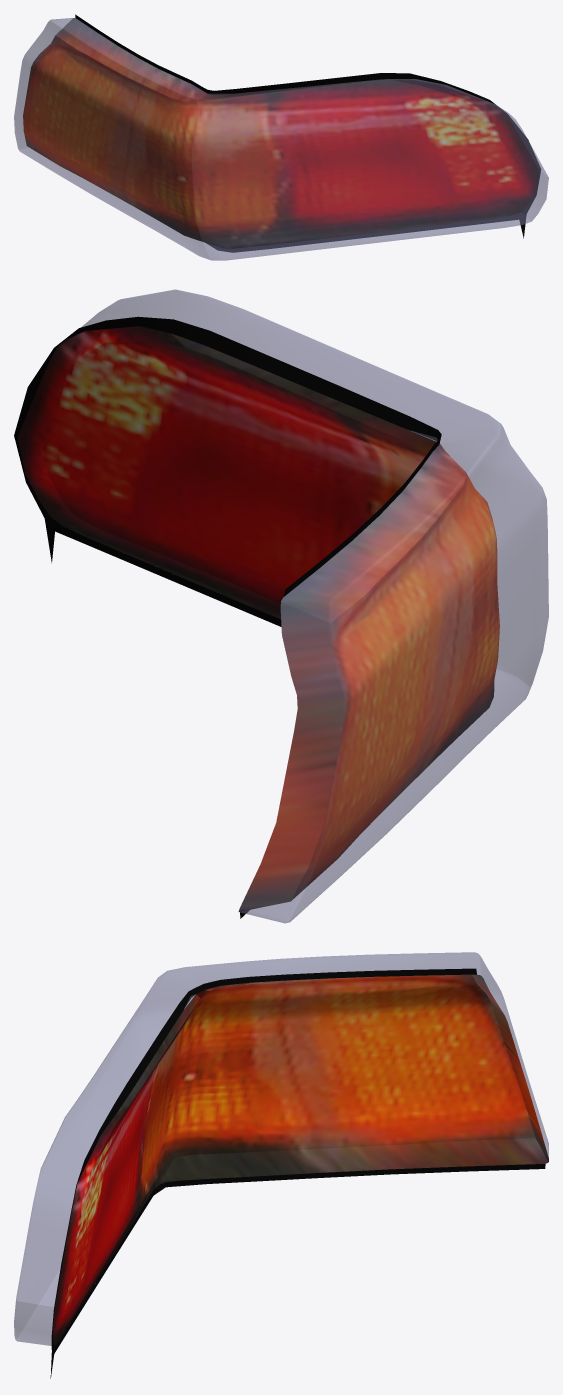
3 views of the same model, one above another, from view 1: azimuth 30°, elevation 25°; view 2: azimuth 150°, elevation 25°; view 3: azimuth 270°, elevation 25° (orthographic). The views are drawn at different scales.
Visible parts, largest first — view 1: Y173_541C_R_Y173_541C_R_2_DTaSI, Y173_541C_R_Y173_541C_R_1_N, Y173_541C_R_3_D_Y173_541C_R; view 2: Y173_541C_R_Y173_541C_R_1_N, Y173_541C_R_Y173_541C_R_2_DTaSI, Y173_541C_R_3_D_Y173_541C_R; view 3: Y173_541C_R_Y173_541C_R_1_N, Y173_541C_R_Y173_541C_R_2_DTaSI, Y173_541C_R_3_D_Y173_541C_R.
Boxes of the visible parts, x1=… form: Y173_541C_R_Y173_541C_R_2_DTaSI: x1=14, y1=18, x2=548, y2=260; Y173_541C_R_Y173_541C_R_1_N: x1=23, y1=18, x2=538, y2=248; Y173_541C_R_3_D_Y173_541C_R: x1=75, y1=14, x2=540, y2=252; Y173_541C_R_Y173_541C_R_1_N: x1=17, y1=326, x2=499, y2=911; Y173_541C_R_Y173_541C_R_2_DTaSI: x1=81, y1=289, x2=548, y2=923; Y173_541C_R_3_D_Y173_541C_R: x1=14, y1=316, x2=441, y2=918; Y173_541C_R_Y173_541C_R_1_N: x1=52, y1=974, x2=548, y2=1345; Y173_541C_R_Y173_541C_R_2_DTaSI: x1=14, y1=952, x2=548, y2=1345; Y173_541C_R_3_D_Y173_541C_R: x1=50, y1=968, x2=545, y2=1378.
Size of the model in its own units: 27.28 by 13.21 by 27.79.
